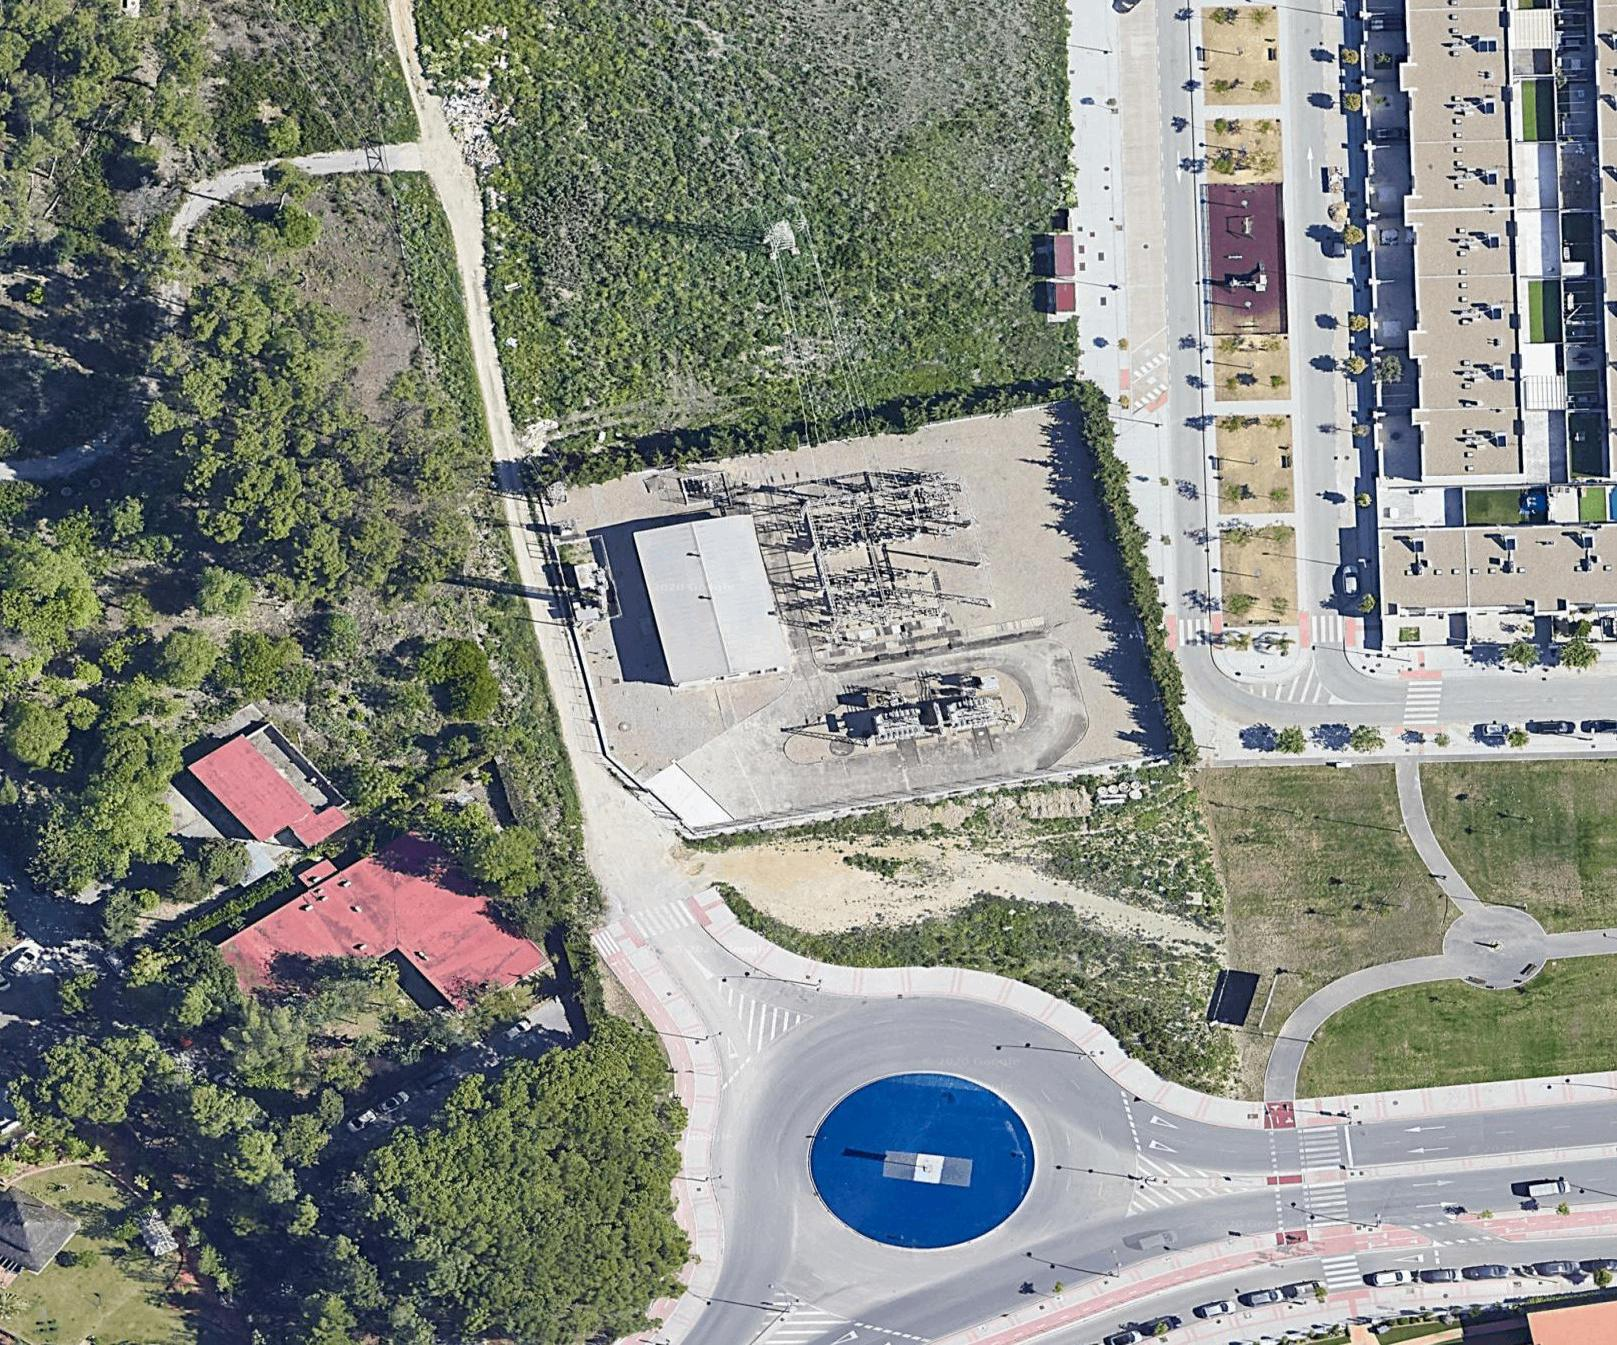substation: (669, 460, 1015, 766)
